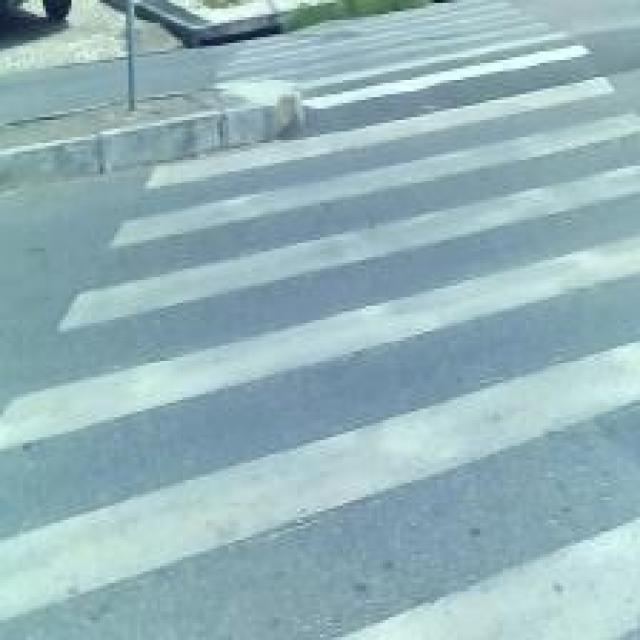walk-crossing: (32, 0, 611, 640)
